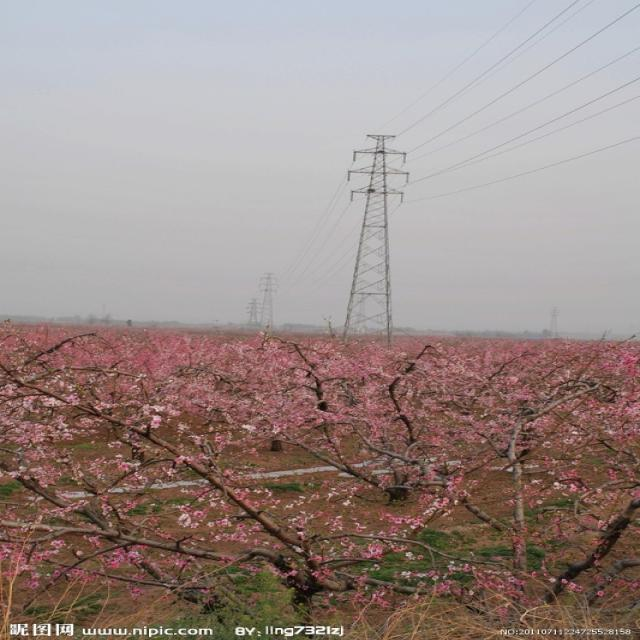non-critical vegetation: (332, 124, 418, 340)
